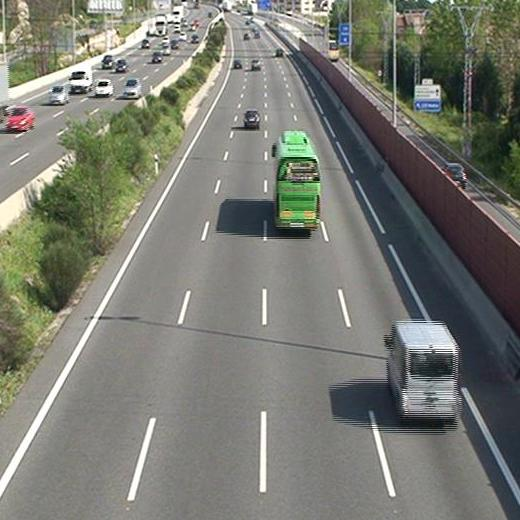bus: (274, 132, 320, 232)
car: (244, 109, 260, 127), (250, 58, 261, 69), (232, 58, 240, 69)
van: (388, 321, 458, 419)
